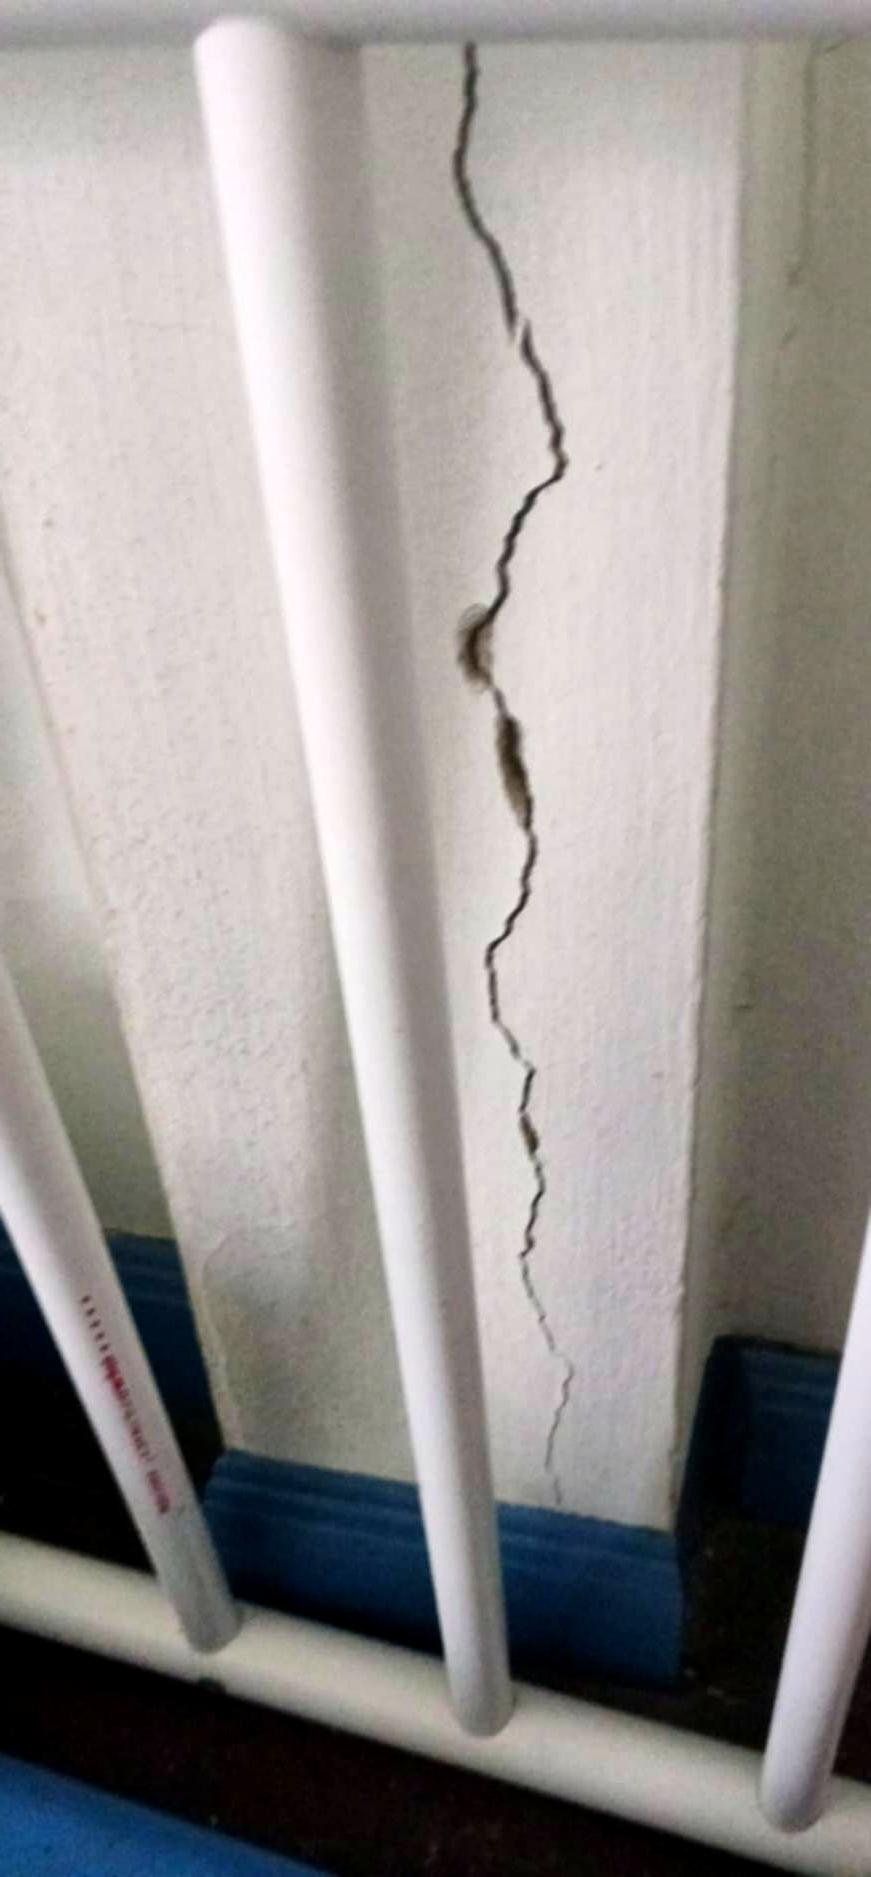High: (370, 38, 642, 1554)
